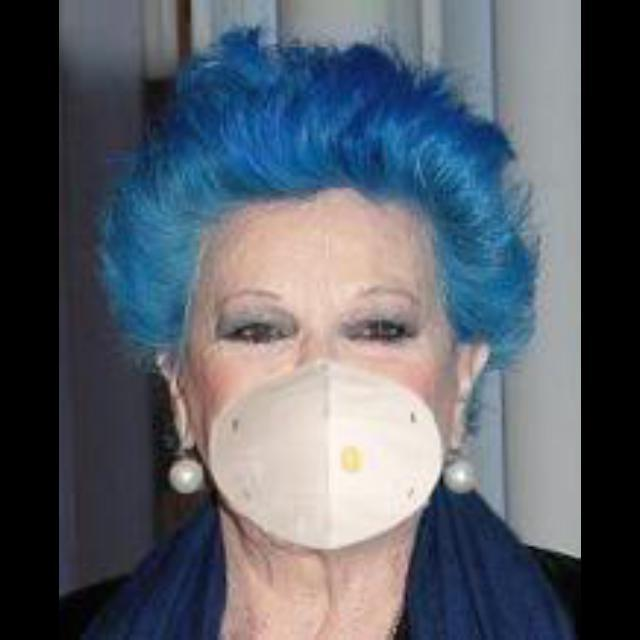suspicion: (199, 188, 463, 540)
